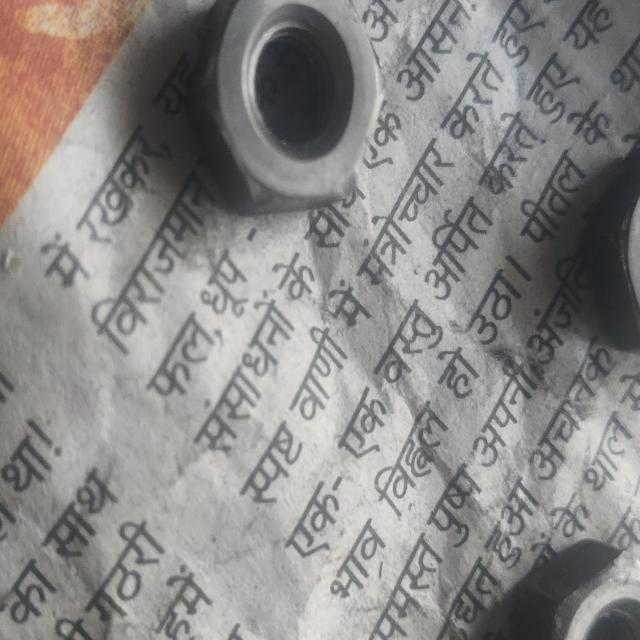disinfected nut: (188, 0, 382, 213), (510, 540, 640, 640), (582, 147, 640, 350)
